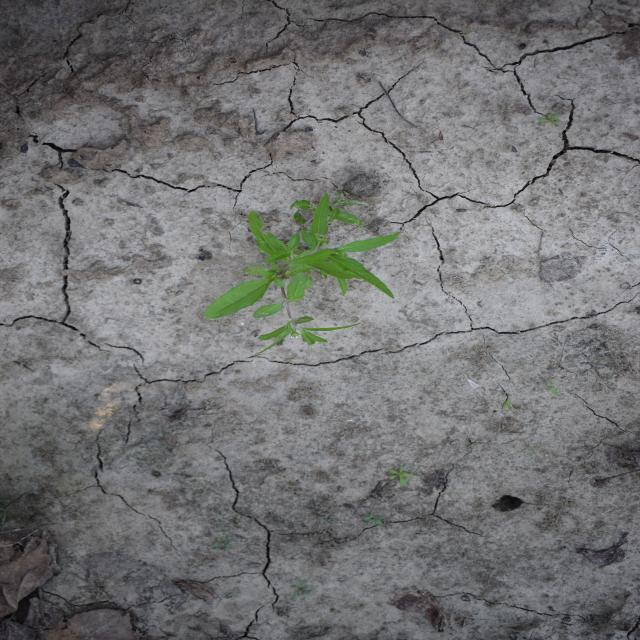Eclipta: (199, 192, 404, 360)
